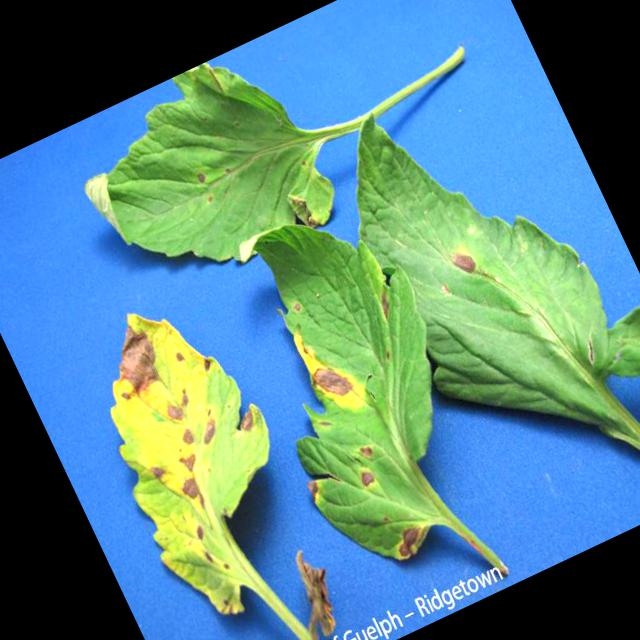Early_blight: (289, 318, 372, 425), (84, 311, 173, 408), (272, 541, 349, 640), (384, 518, 432, 562), (152, 382, 197, 426), (189, 404, 231, 447), (175, 472, 210, 514), (447, 241, 483, 281), (371, 284, 399, 319), (229, 406, 260, 437), (175, 446, 205, 475), (299, 475, 327, 506), (352, 464, 380, 492), (142, 460, 168, 485), (174, 425, 198, 450), (188, 167, 212, 190), (187, 519, 210, 542), (357, 440, 378, 462), (170, 346, 189, 365), (198, 354, 214, 374)
